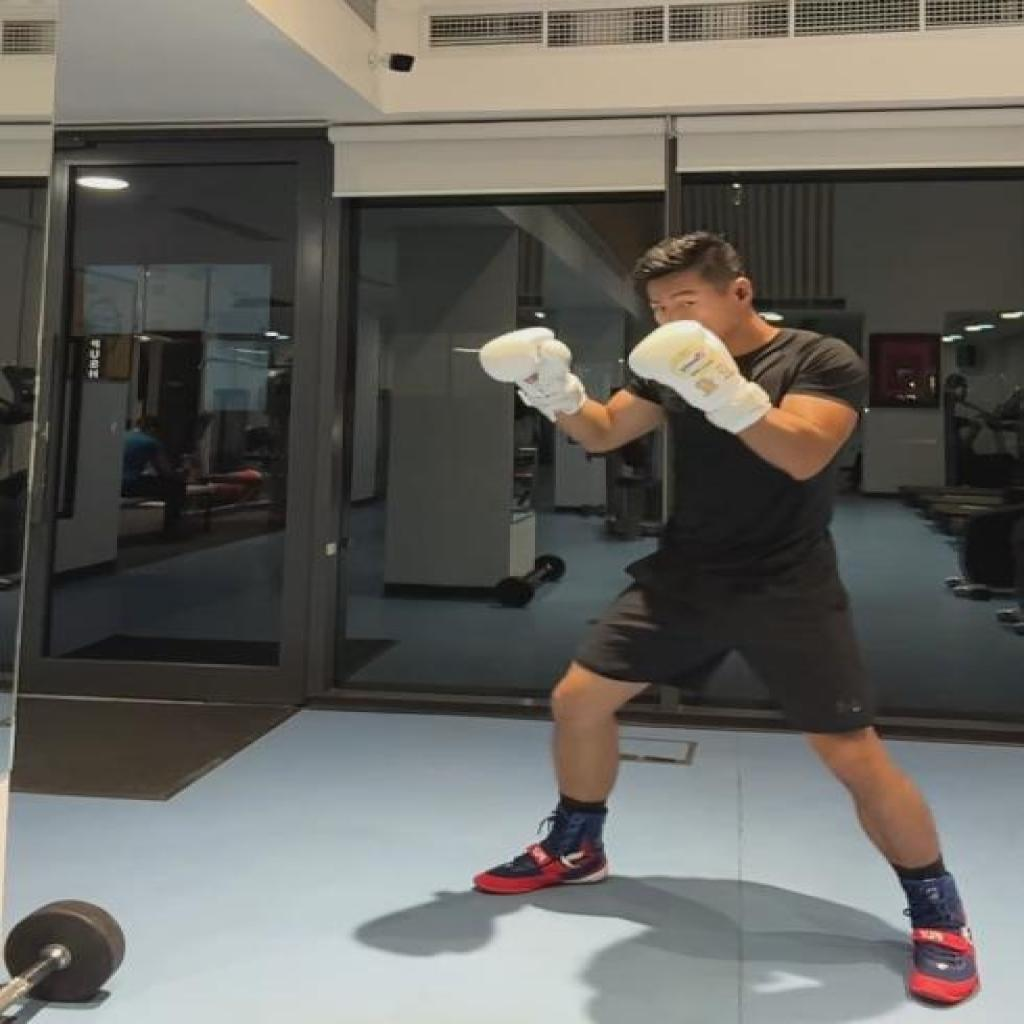no punch: (441, 219, 988, 1010)
